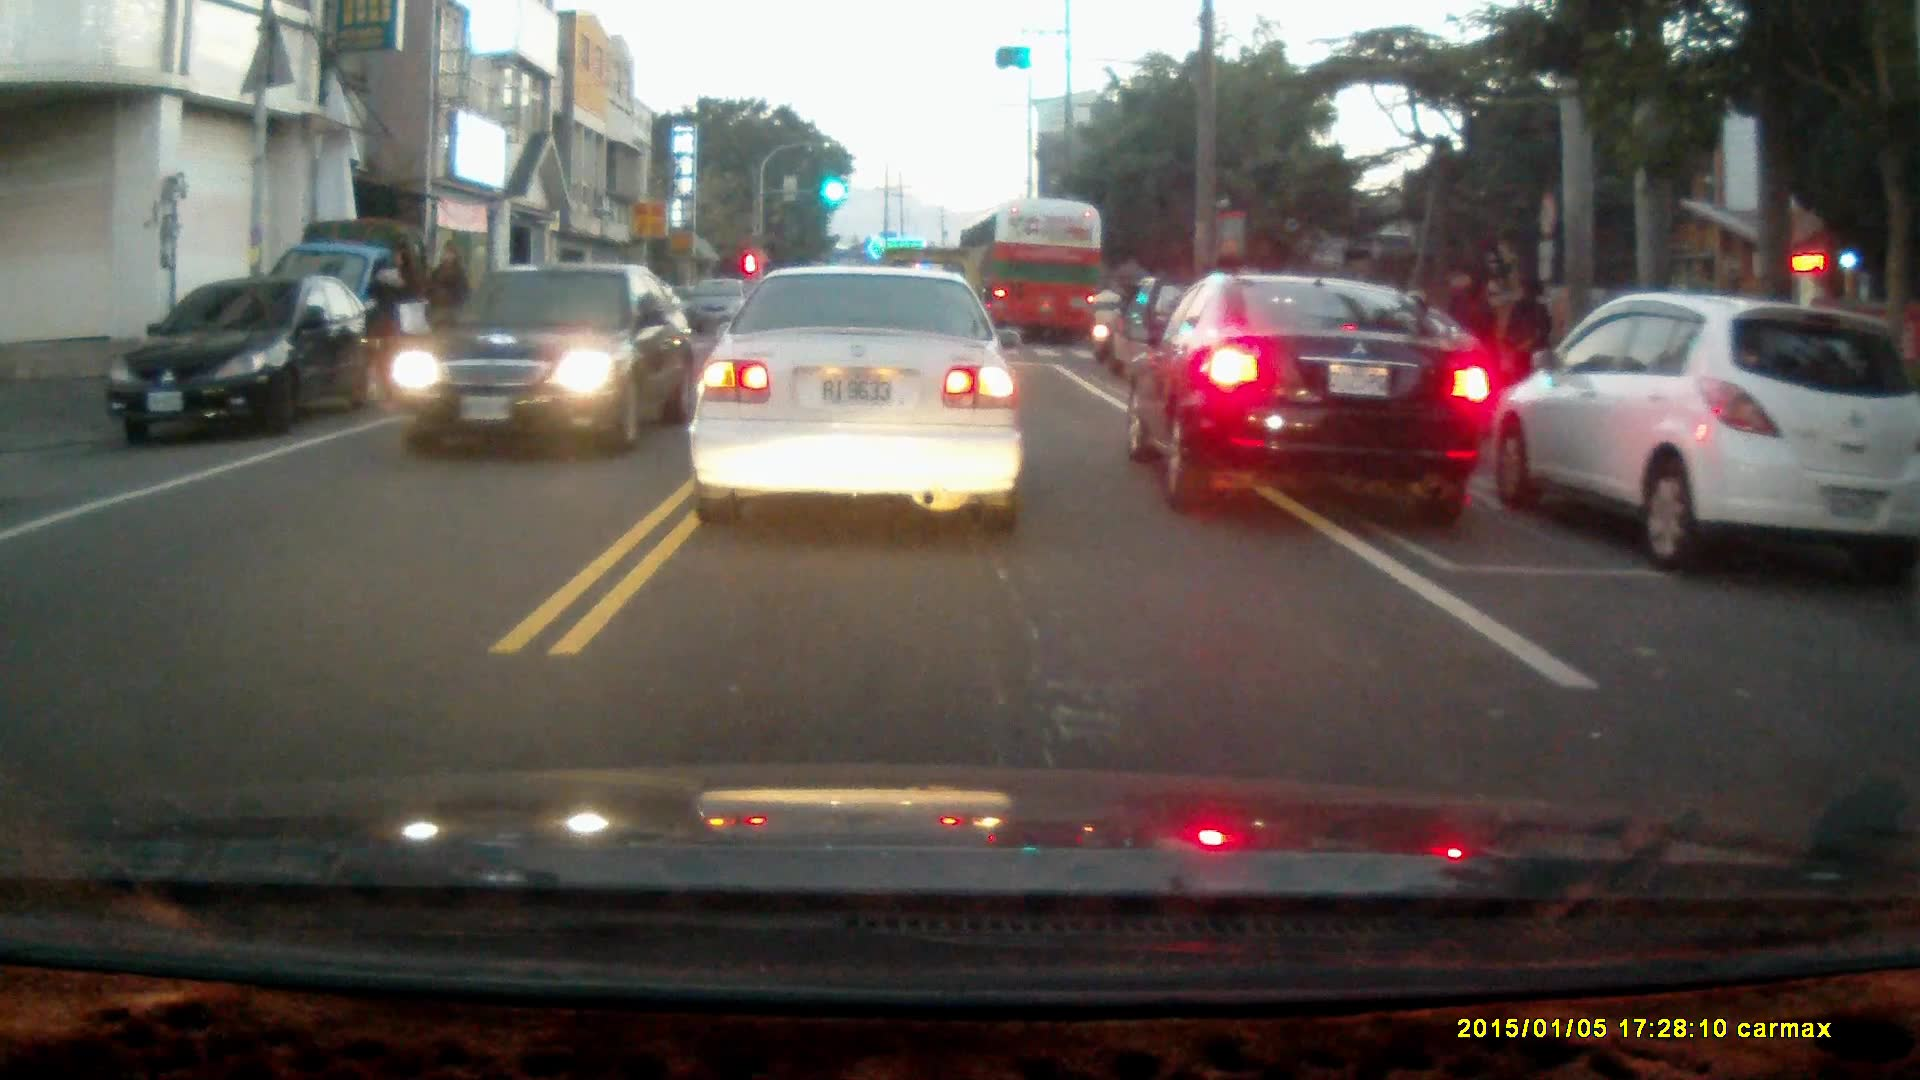pedestrian: (368, 245, 423, 402), (420, 237, 472, 386), (1501, 278, 1552, 407), (1450, 276, 1495, 398)
rider: (1085, 284, 1125, 365)
vehicle: (1480, 290, 1920, 572), (685, 263, 1028, 539), (1134, 275, 1496, 520), (393, 262, 691, 455), (105, 275, 366, 444), (255, 227, 470, 399), (961, 205, 1102, 350)
